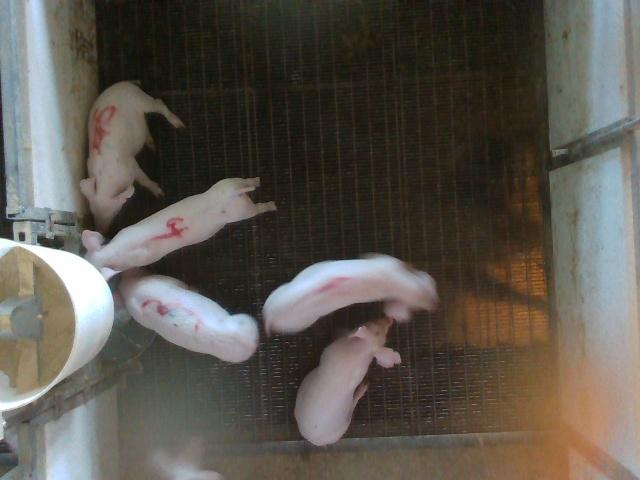pig-1: (264, 254, 439, 333)
pig-3: (119, 268, 259, 362)
pig-4: (82, 178, 276, 279)
pig-5: (80, 81, 184, 232)
